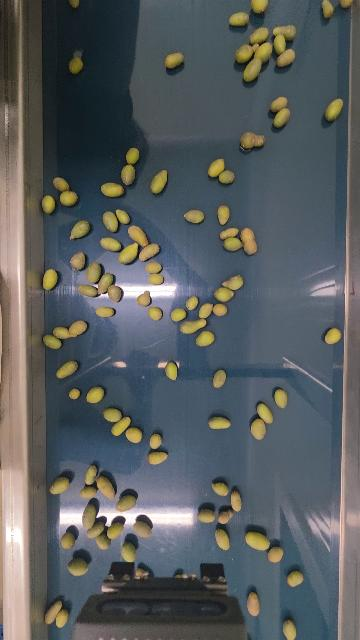Baby Potato: (234, 42, 260, 64), (245, 530, 271, 551), (44, 598, 63, 626), (239, 227, 258, 255), (110, 414, 132, 438), (242, 58, 263, 83), (239, 131, 266, 150), (324, 97, 345, 121), (149, 169, 168, 195), (127, 224, 149, 246), (270, 106, 292, 128), (118, 242, 139, 265), (179, 318, 209, 334), (96, 475, 115, 500), (49, 474, 71, 495), (56, 359, 79, 379), (245, 590, 262, 616), (275, 47, 296, 68), (69, 219, 90, 240), (253, 41, 274, 62), (138, 242, 160, 262), (102, 209, 120, 233), (67, 557, 88, 577), (96, 272, 114, 295), (256, 401, 274, 424), (85, 261, 102, 285), (100, 182, 125, 198), (116, 493, 136, 513), (272, 386, 289, 409), (250, 417, 267, 440), (133, 518, 152, 538), (68, 319, 88, 338), (248, 26, 269, 44), (164, 51, 185, 69), (82, 503, 97, 528), (42, 268, 58, 291), (228, 11, 251, 27), (195, 329, 215, 347), (42, 333, 63, 350), (107, 518, 124, 539), (214, 285, 235, 302), (208, 157, 225, 178), (223, 274, 244, 291), (215, 528, 231, 550), (100, 236, 122, 252), (208, 415, 231, 430), (76, 283, 99, 298), (324, 327, 342, 346), (286, 569, 304, 588), (59, 190, 79, 207), (120, 164, 136, 185), (222, 236, 243, 252), (272, 33, 287, 55), (121, 541, 136, 563), (282, 618, 297, 640), (86, 386, 104, 404), (269, 95, 288, 112), (68, 55, 84, 75), (184, 209, 205, 224), (217, 204, 231, 226), (267, 545, 284, 563), (278, 24, 297, 40), (70, 251, 86, 270), (60, 531, 76, 550), (41, 194, 56, 214), (147, 451, 168, 465), (55, 608, 69, 629), (198, 301, 214, 319), (126, 426, 142, 444), (103, 407, 122, 422), (212, 369, 226, 389), (165, 361, 179, 381), (230, 489, 242, 512), (94, 305, 115, 318), (125, 147, 140, 165), (52, 176, 70, 191), (211, 481, 229, 496), (108, 284, 123, 302), (144, 260, 163, 274), (219, 169, 235, 185), (147, 305, 163, 321), (212, 301, 228, 317), (136, 290, 151, 307), (198, 508, 215, 523), (170, 307, 187, 322), (87, 523, 104, 538), (85, 464, 97, 485), (96, 532, 110, 550), (321, 0, 334, 19), (250, 0, 269, 13), (217, 509, 233, 524), (219, 227, 239, 239), (53, 325, 70, 339), (115, 209, 129, 225), (147, 272, 164, 285), (149, 433, 162, 450), (185, 295, 199, 310), (80, 486, 97, 498), (68, 388, 81, 400), (338, 0, 355, 9), (68, 0, 81, 9)
